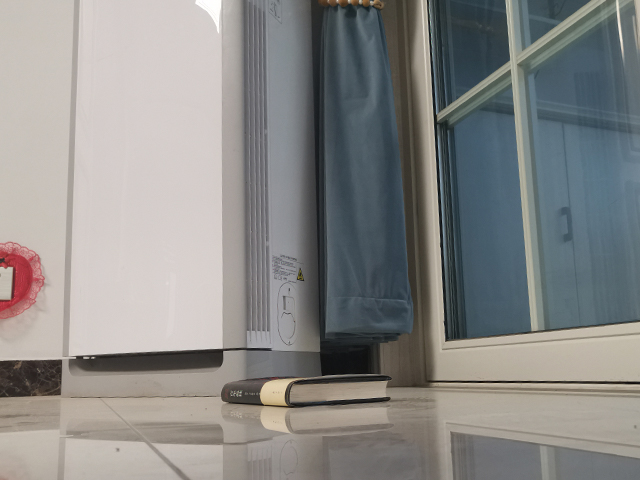book: (220, 374, 394, 408)
cabinet: (450, 88, 640, 343)
curtain: (315, 1, 420, 360)
